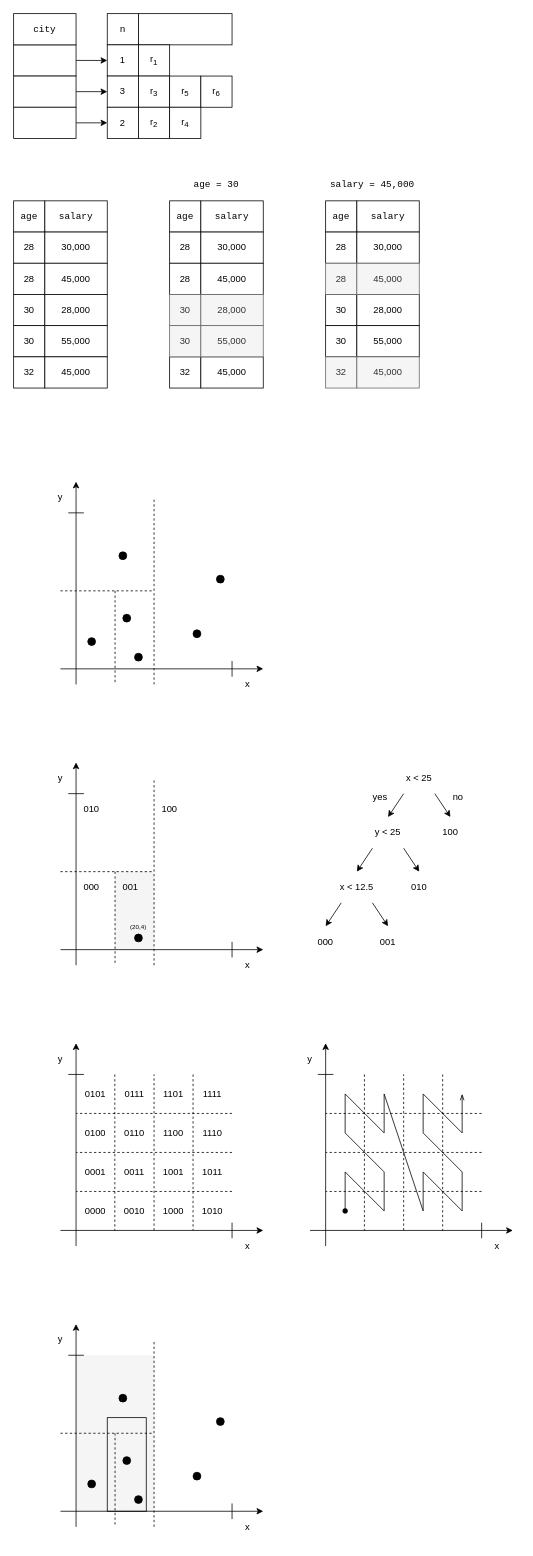
Image size: 533x1556. Some labels were removed from this diagram. Each missing label, with the centre of its shape:
Florence: (x=44, y=60)
Milan: (x=44, y=91)
Pisa: (x=44, y=122)
RIDs: (x=185, y=29)
